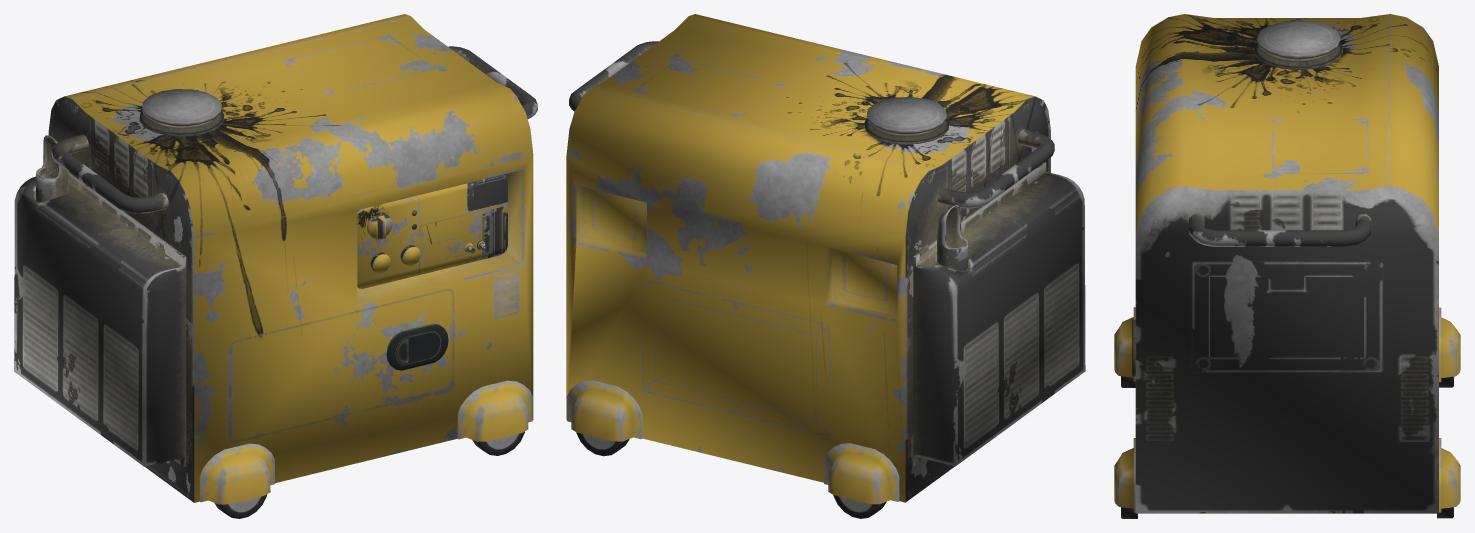
Rendered from generator.fbx.
The picture shows the model from 3 angles, left to right: view 1: azimuth 30°, elevation 25°; view 2: azimuth 150°, elevation 25°; view 3: azimuth 270°, elevation 25°; orthographic projection. The views are drawn at different scales.
Parts seen in each view (by area): view 1: Object011, Object016, Object013, Object012; view 2: Object011, Object015, Object014; view 3: Object011, Object012, Object014, Object015, Object013.
Boxes of the visible parts, x1=… form: Object011: x1=14, y1=14, x2=537, y2=502; Object016: x1=357, y1=174, x2=507, y2=288; Object013: x1=199, y1=443, x2=274, y2=518; Object012: x1=457, y1=380, x2=532, y2=455; Object011: x1=566, y1=14, x2=1085, y2=502; Object015: x1=824, y1=443, x2=899, y2=518; Object014: x1=567, y1=380, x2=642, y2=456; Object011: x1=1132, y1=14, x2=1438, y2=513; Object012: x1=1114, y1=438, x2=1137, y2=518; Object014: x1=1437, y1=438, x2=1460, y2=518; Object015: x1=1439, y1=307, x2=1460, y2=387; Object013: x1=1114, y1=307, x2=1135, y2=387.
Bounding box in the file's own units: 534 × 417 × 365.
1 material, 1 textured.
